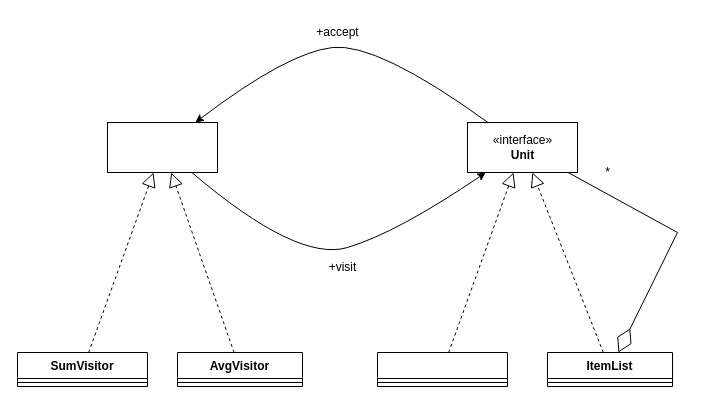
Image size: 721x404. Some labels were removed from this diagram. The shapes that lost their labels are listed below. From the top down, each one's box as (x1, y1, x2, y2) in pixels, then its label:
(106, 122, 218, 172): «interface» Visitor
(376, 352, 508, 386): Item
